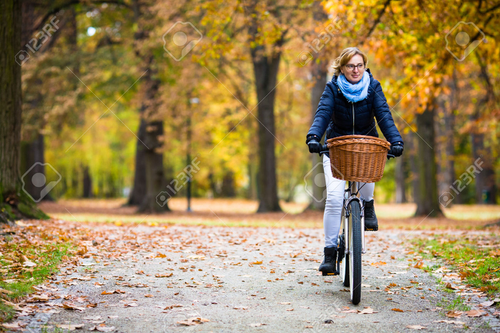bikerider: (296, 38, 416, 313)
